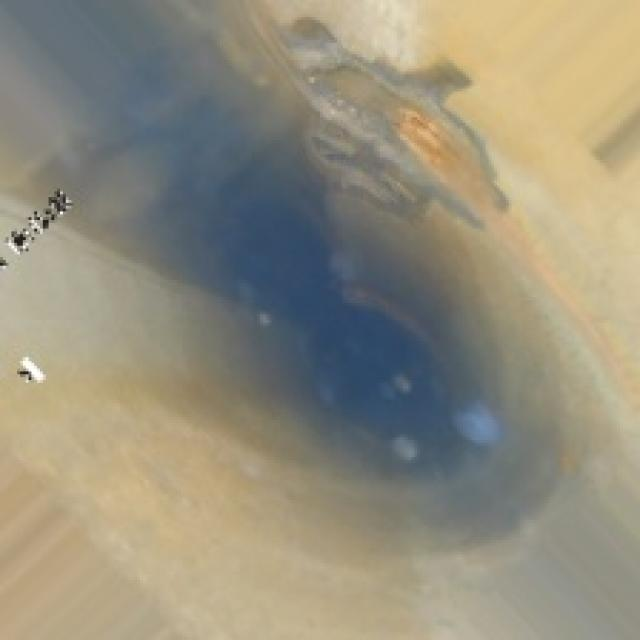pipe_surface_damage: (266, 14, 506, 229)
